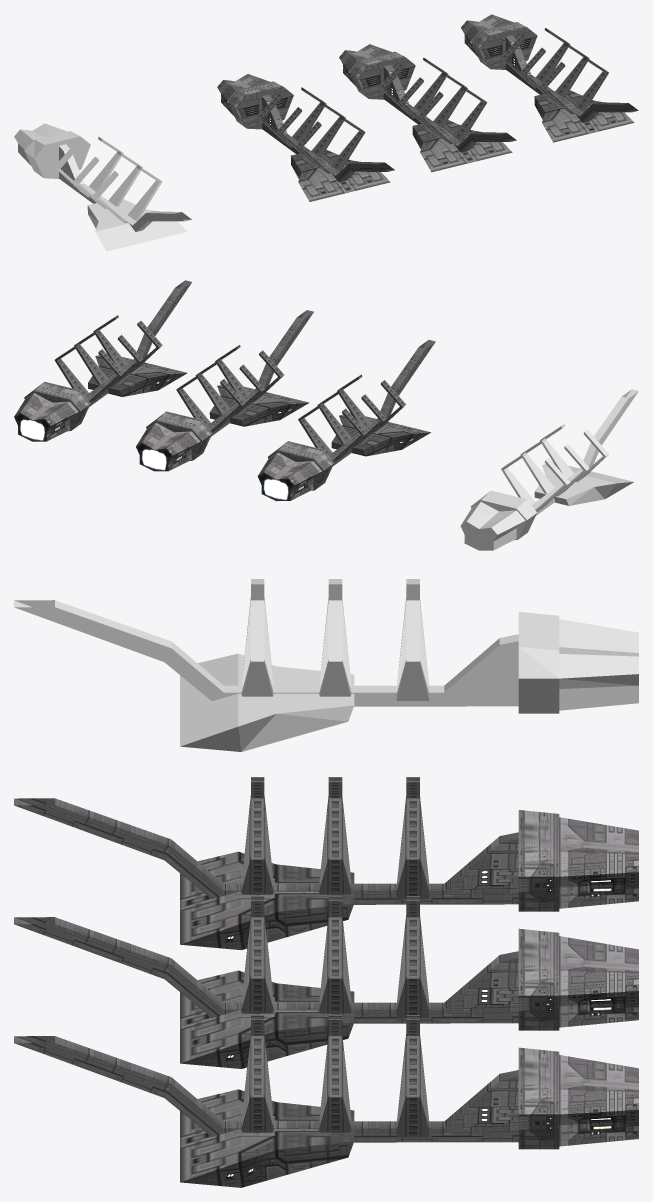
The model's file is ksh_sec_ms_lowerdecks.dae.
3 renders of one model, top to bottom at view 1: azimuth 30°, elevation 25°; view 2: azimuth 150°, elevation 25°; view 3: azimuth 270°, elevation 25°, orthographic. The views are drawn at different scales.
Parts seen in each view (by area): view 1: MULT[root_mesh]_LOD[2], MULT[root_mesh]_LOD[1], MULT[root_mesh]_LOD[0], COL[Root]; view 2: COL[Root], MULT[root_mesh]_LOD[1], MULT[root_mesh]_LOD[2], MULT[root_mesh]_LOD[0]; view 3: MULT[root_mesh]_LOD[2], COL[Root], MULT[root_mesh]_LOD[1], MULT[root_mesh]_LOD[0].
Boxes of the visible parts, bbox=[...] form: MULT[root_mesh]_LOD[2]: bbox=[461, 14, 638, 142]; MULT[root_mesh]_LOD[1]: bbox=[339, 44, 516, 172]; MULT[root_mesh]_LOD[0]: bbox=[217, 74, 394, 201]; COL[Root]: bbox=[14, 123, 191, 251]; COL[Root]: bbox=[460, 389, 638, 550]; MULT[root_mesh]_LOD[1]: bbox=[136, 310, 313, 471]; MULT[root_mesh]_LOD[2]: bbox=[14, 280, 191, 441]; MULT[root_mesh]_LOD[0]: bbox=[257, 340, 435, 501]; MULT[root_mesh]_LOD[2]: bbox=[14, 1015, 638, 1187]; COL[Root]: bbox=[14, 579, 638, 751]; MULT[root_mesh]_LOD[1]: bbox=[14, 896, 638, 1068]; MULT[root_mesh]_LOD[0]: bbox=[14, 777, 638, 950].
Size of the model in its own units: 2696 by 332 by 1382.
Materials: 7 (7 with a texture image).
